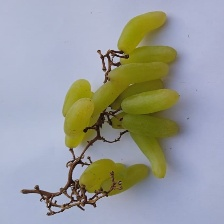grapes: (35, 39, 218, 178)
